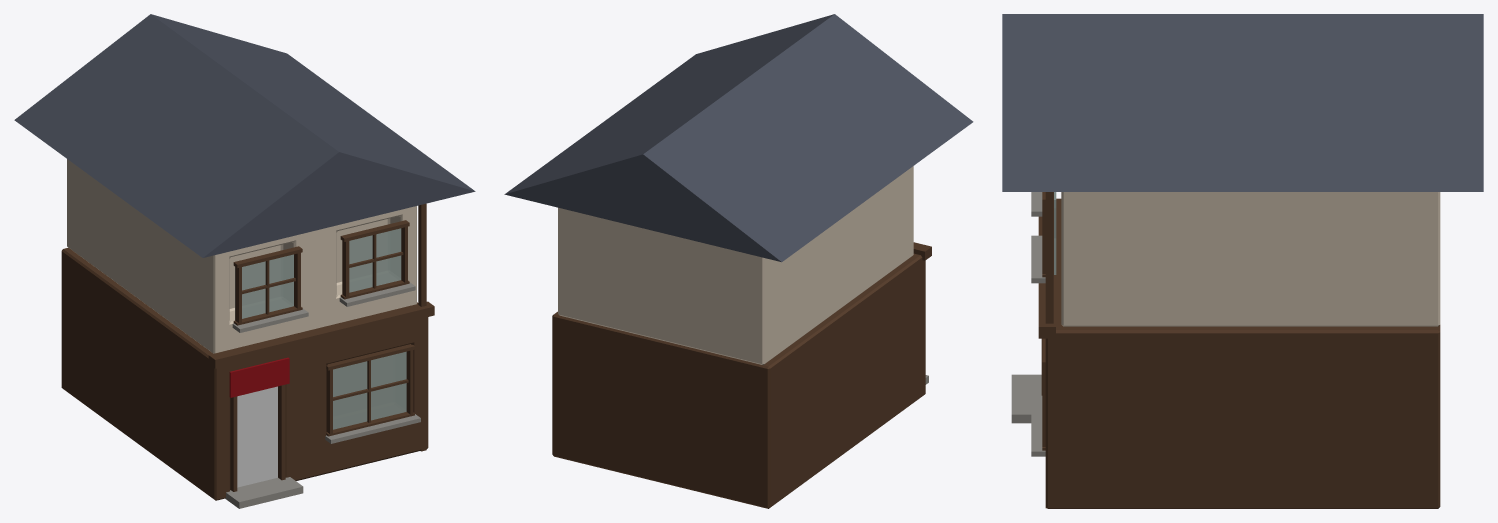
The model's file is SM_K_HouseA_Machiya.obj.
3 views of the same model, side by side, from view 1: azimuth 30°, elevation 25°; view 2: azimuth 150°, elevation 25°; view 3: azimuth 270°, elevation 25° (orthographic). The views are drawn at different scales.
Parts seen in each view (by area): view 1: SM_K_HouseA_Machiya; view 2: SM_K_HouseA_Machiya; view 3: SM_K_HouseA_Machiya.
Boxes of the visible parts, left/top/right/bottom form: SM_K_HouseA_Machiya: left=14, top=14, right=475, bottom=508; SM_K_HouseA_Machiya: left=504, top=14, right=973, bottom=508; SM_K_HouseA_Machiya: left=1002, top=14, right=1483, bottom=508.
Size of the model in its own units: 5.1 by 6 by 6.1.
